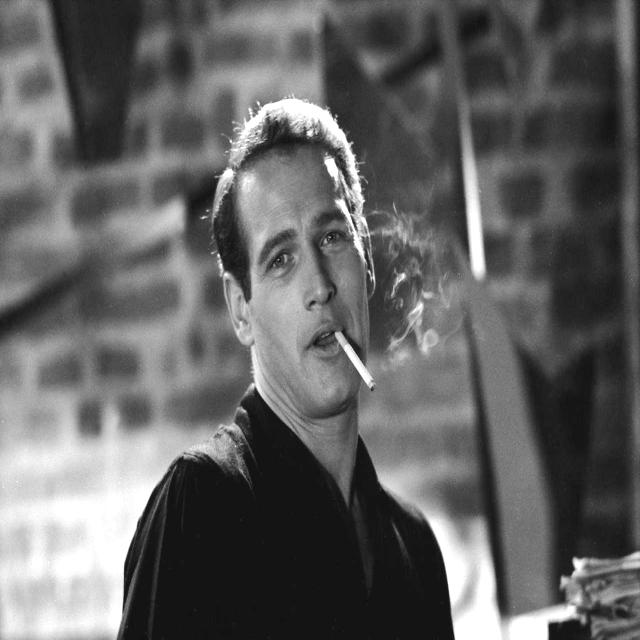Smooking: (326, 324, 381, 402)
